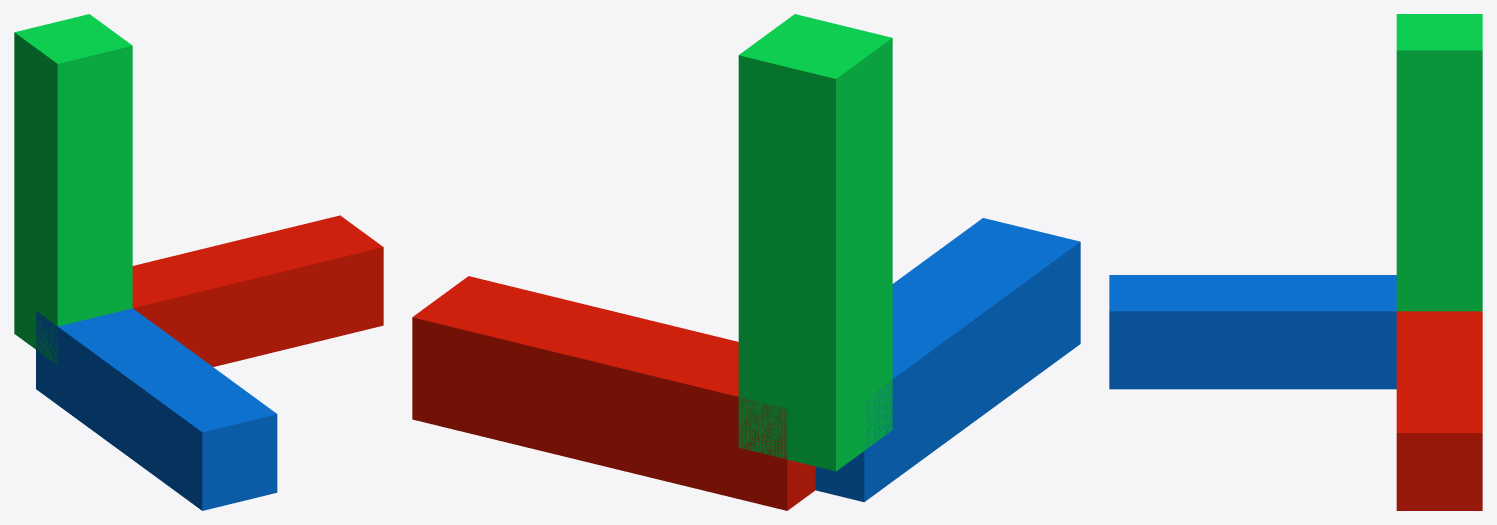
Rendered from axis_guide_z_up.glb.
3 views of the same model, side by side, from view 1: azimuth 30°, elevation 25°; view 2: azimuth 150°, elevation 25°; view 3: azimuth 270°, elevation 25° (orthographic). The views are drawn at different scales.
Visible parts, largest first — view 1: axis; view 2: axis; view 3: axis.
Boxes of the visible parts, left/top/right/bottom form: axis: left=14, top=14, right=383, bottom=510; axis: left=412, top=14, right=1080, bottom=510; axis: left=1109, top=14, right=1482, bottom=510.
Bounding box in the file's own units: 2.26 × 2.26 × 2.26.
